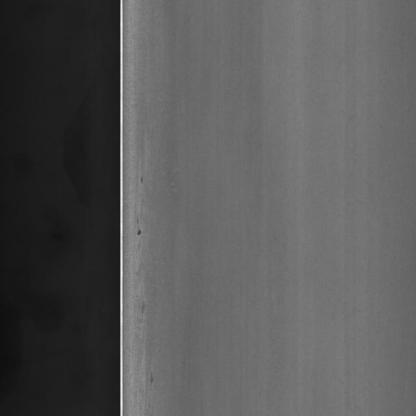inclusion: (143, 366, 156, 410), (134, 216, 144, 242), (136, 169, 146, 192)
